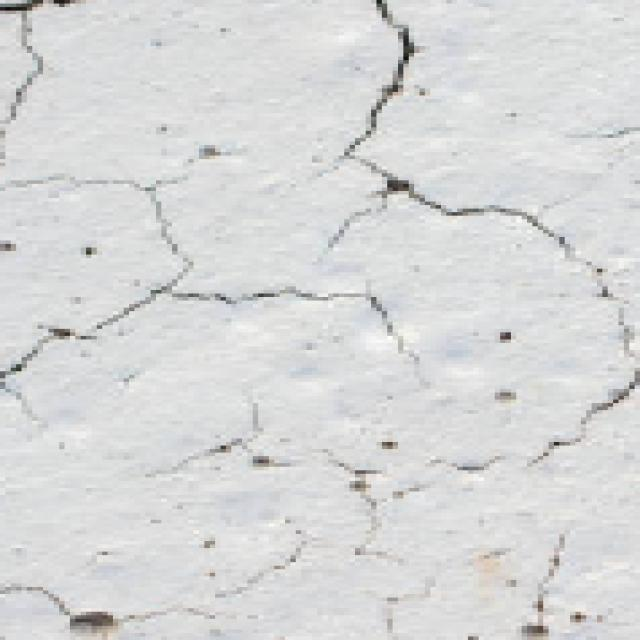branched cracks: (0, 175, 418, 427), (321, 450, 429, 559), (171, 401, 289, 470), (215, 540, 306, 598), (519, 532, 565, 639)
